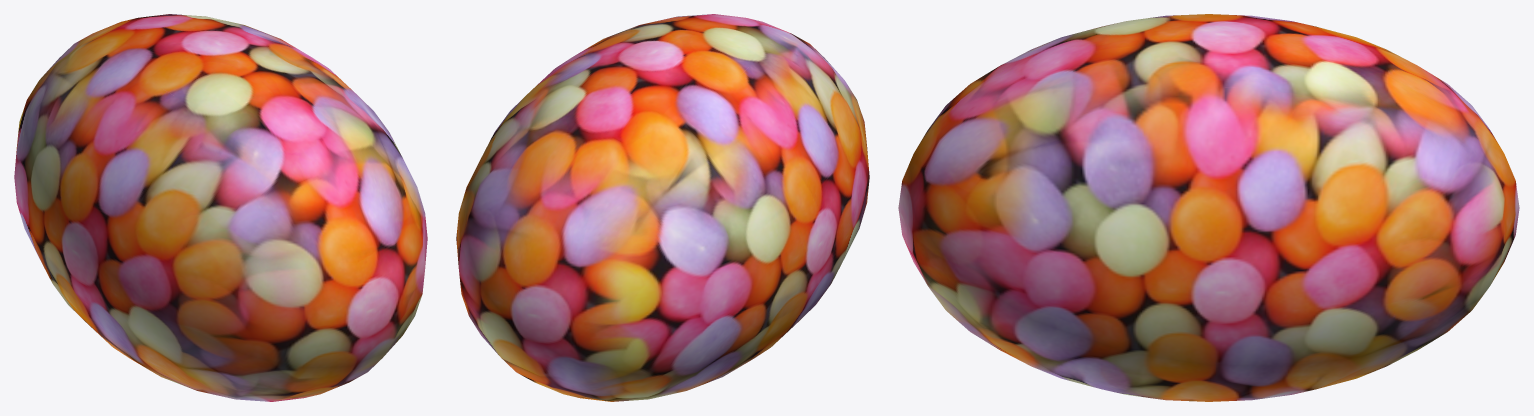
Rendered from bala_lanza.obj.
3 renders of one model, left to right at view 1: azimuth 30°, elevation 25°; view 2: azimuth 150°, elevation 25°; view 3: azimuth 270°, elevation 25°, orthographic. The views are drawn at different scales.
Visible parts, largest first — view 1: pSphere1; view 2: pSphere1; view 3: pSphere1.
Part boxes in pixels (<box>): pSphere1: <box>14,14,427,401</box>; pSphere1: <box>456,14,869,401</box>; pSphere1: <box>898,14,1519,401</box>.
Bounding box in the file's own units: 0.3598 × 0.3598 × 0.5756.
Materials: 1 (1 with a texture image).
